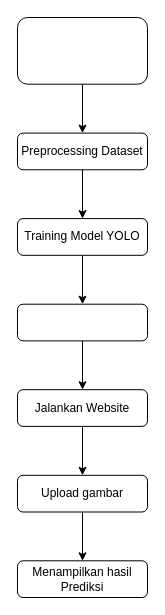
This 165x615 diagram has some shape labels left out. Each missing label, with the centre of its shape:
Mengumpulkan Dataset Cacat Permukaan Logam: the point at 82,50
SImpan model yang sudah di training (best.pt): the point at 82,322
